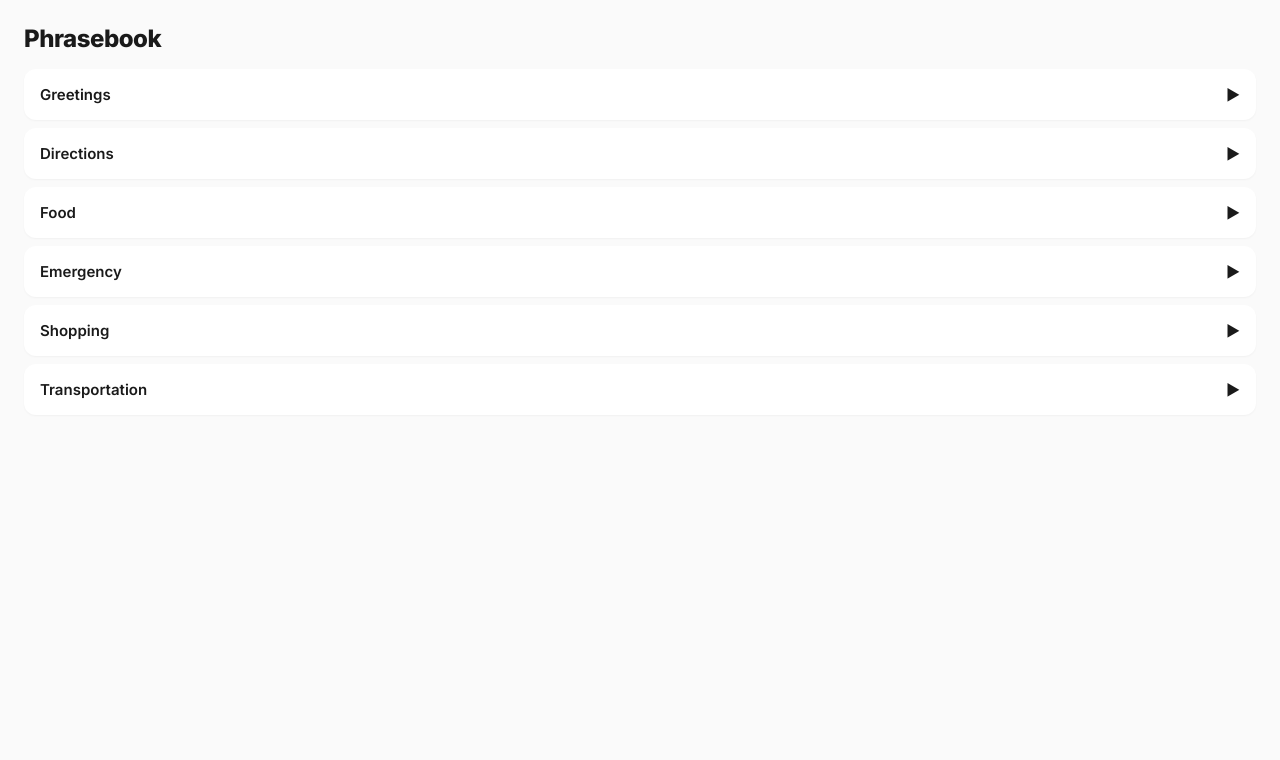
Test case: Phrasebook › expands a category to show phrases with English, Chinese, and Pinyin
This screenshot has width=1280, height=760.
Step 1. Click the text "Greetings" → (75, 94), box [40,85,111,104]
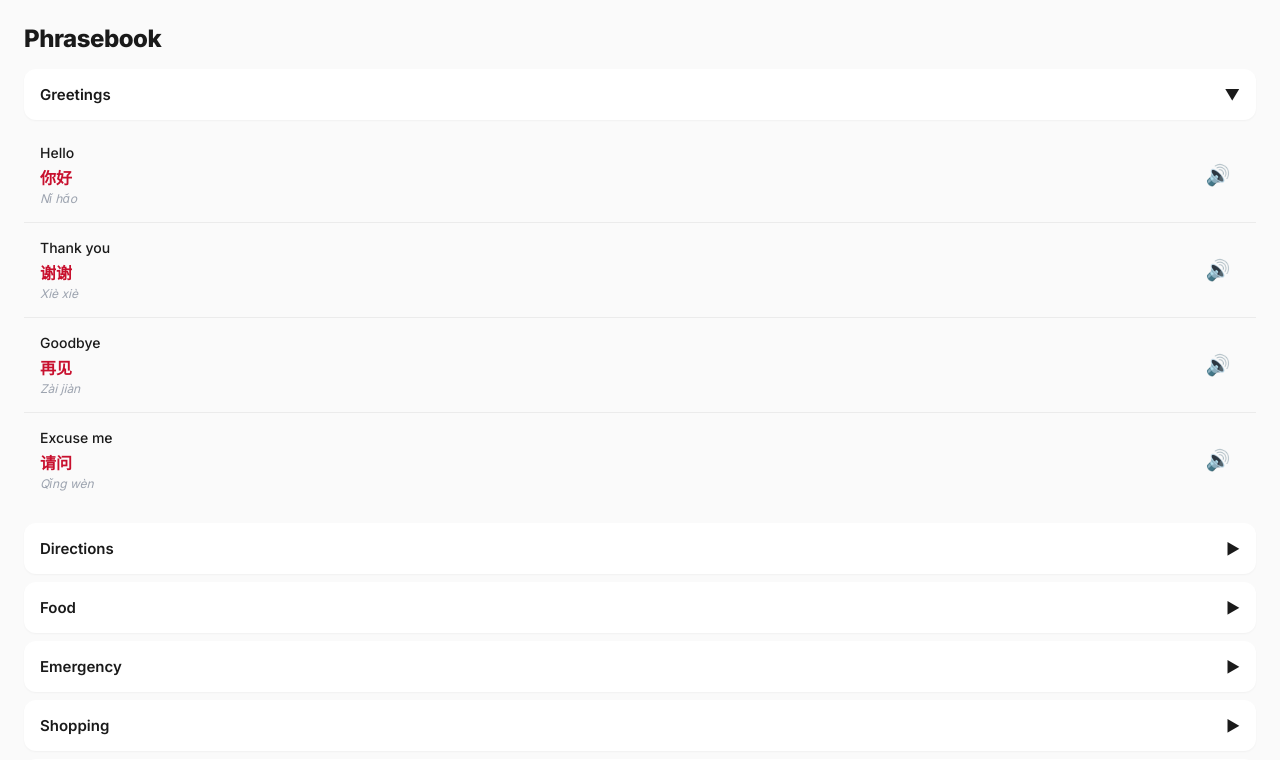
Result: the text "Hello" is shown at [40,144,74,161]
Result: the text "你好" is shown at [40,168,72,188]
Result: the text "Nǐ hǎo" is shown at [40,191,77,206]
